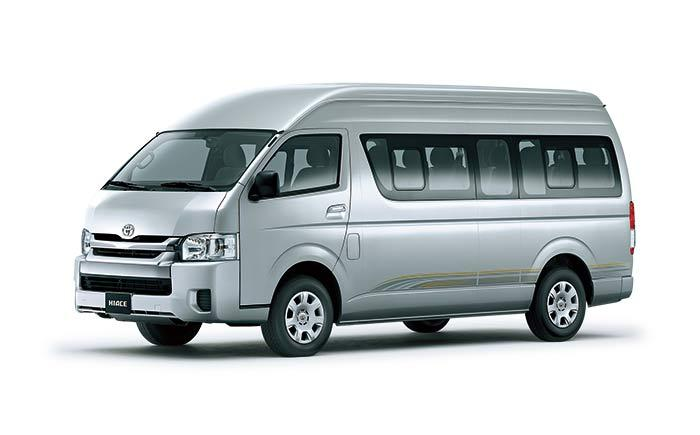van: (75, 81, 634, 358)
